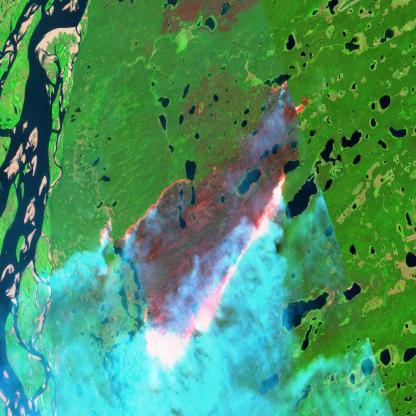fire: (98, 171, 287, 370), (268, 74, 310, 120)
